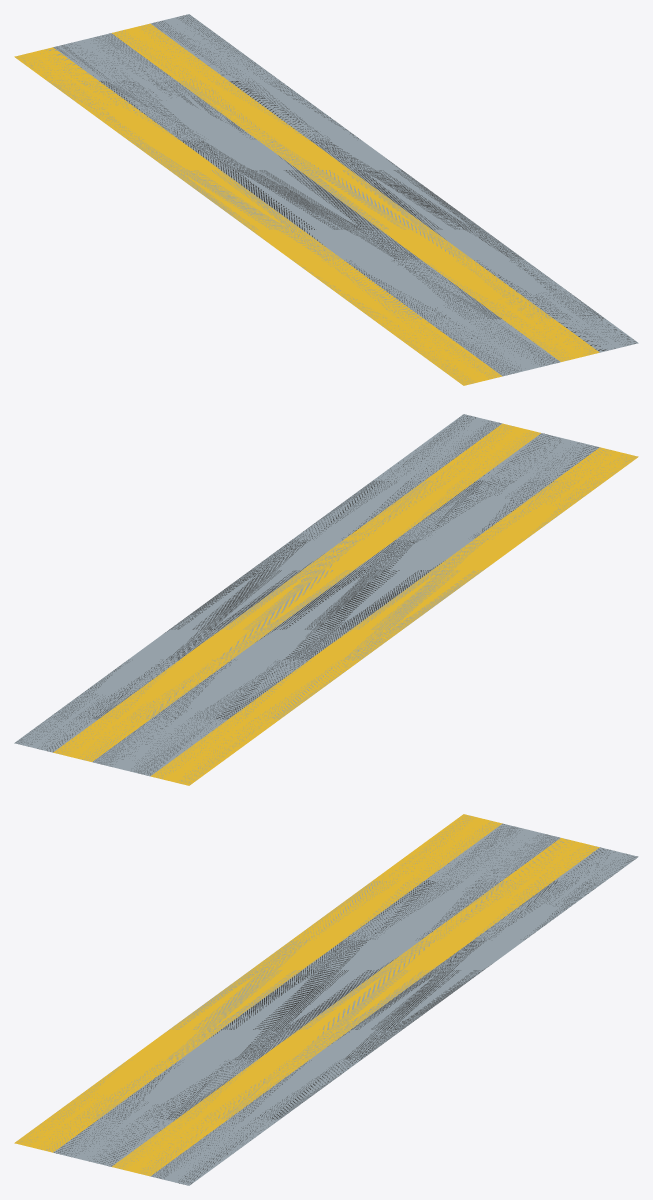
The model's file is double_yellow_line_small.fbx.
The picture shows the model from 3 angles, top to bottom: view 1: azimuth 30°, elevation 25°; view 2: azimuth 150°, elevation 25°; view 3: azimuth 330°, elevation 25°; orthographic projection.
Visible parts, largest first — view 1: Model; view 2: Model; view 3: Model.
Part boxes in pixels (box(x1,y1,x2,y2)): Model: box(14, 14, 638, 385); Model: box(14, 414, 638, 785); Model: box(14, 814, 638, 1185).
Size of the model in its own units: 0.45 by 0 by 2.
